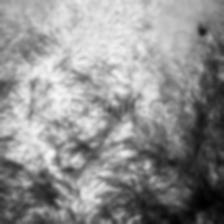Non-Cancerous Skin Condition: (0, 26, 224, 222)
